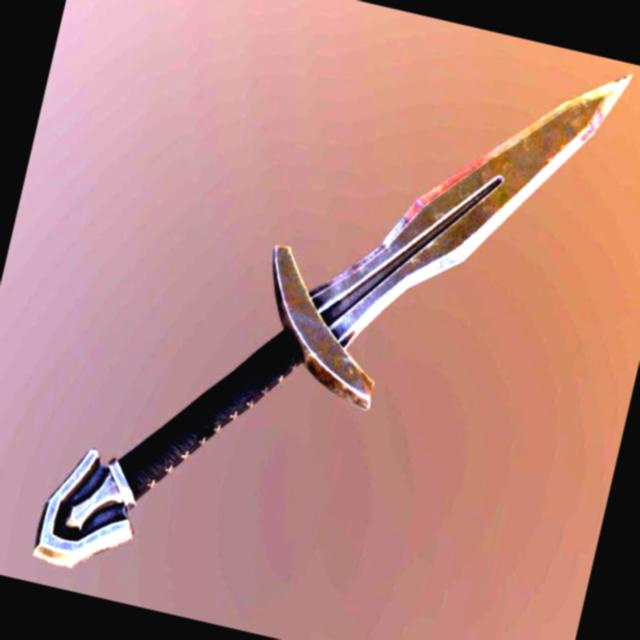short sword: (23, 0, 640, 640)
